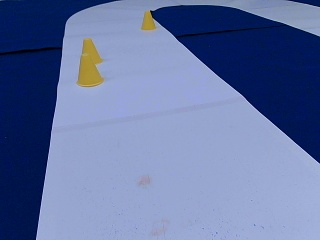cone: (76, 51, 102, 86), (80, 38, 101, 63), (141, 11, 154, 30)
